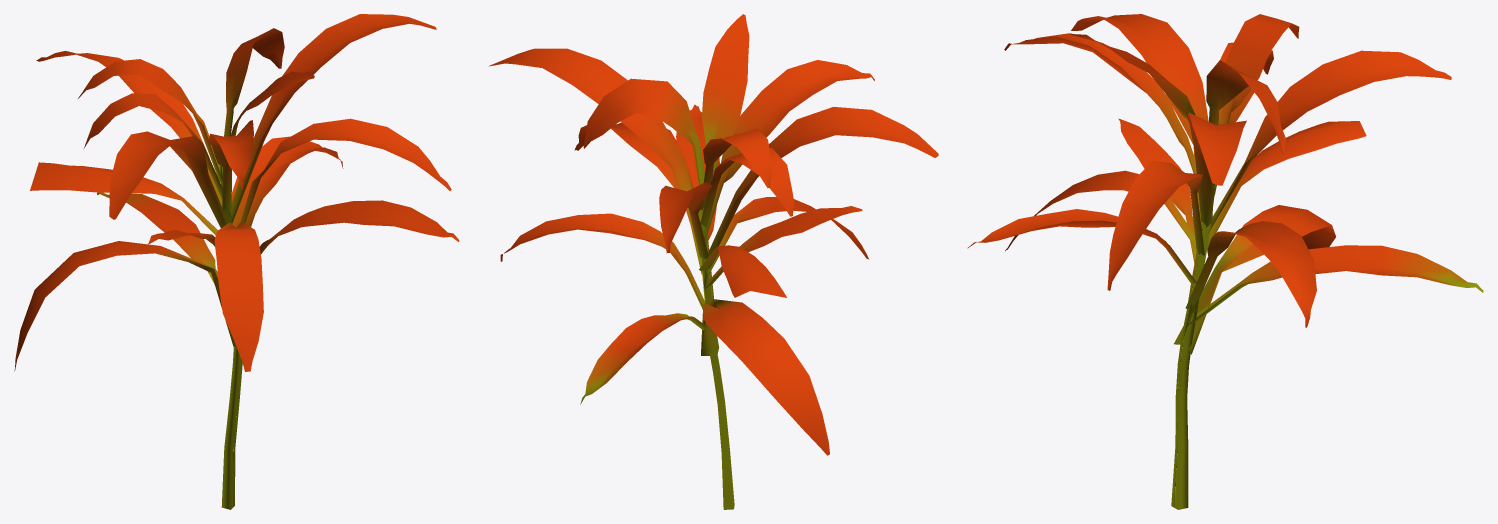
Rendered from Pink Cordyline_LOD1_Var4_sfhhN.fbx.
3 renders of one model, left to right at view 1: azimuth 30°, elevation 25°; view 2: azimuth 150°, elevation 25°; view 3: azimuth 270°, elevation 25°, orthographic. The views are drawn at different scales.
Parts seen in each view (by area): view 1: _8b20_Var4_LOD1; view 2: _8b20_Var4_LOD1; view 3: _8b20_Var4_LOD1.
Boxes of the visible parts, <box> form: _8b20_Var4_LOD1: <box>14,14,459,509</box>; _8b20_Var4_LOD1: <box>489,14,938,509</box>; _8b20_Var4_LOD1: <box>967,14,1483,509</box>.
Size of the model in its own units: 86.57 by 97 by 92.29.
